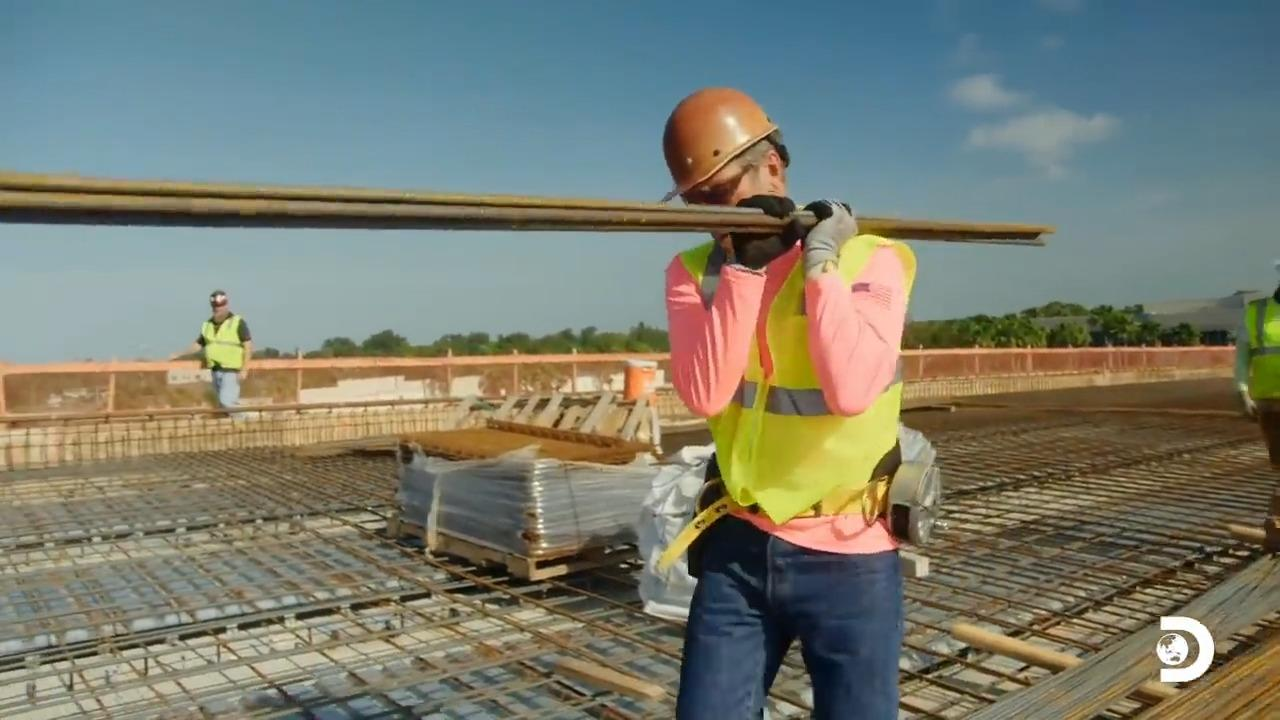Gloves: (726, 191, 783, 263), (789, 200, 853, 254), (1239, 390, 1255, 419)
Helmet: (660, 85, 782, 201)
Person: (660, 86, 917, 719), (1233, 283, 1279, 553), (167, 289, 253, 420)
Safety Vest: (694, 296, 902, 510), (204, 324, 247, 375), (1252, 306, 1277, 393)
